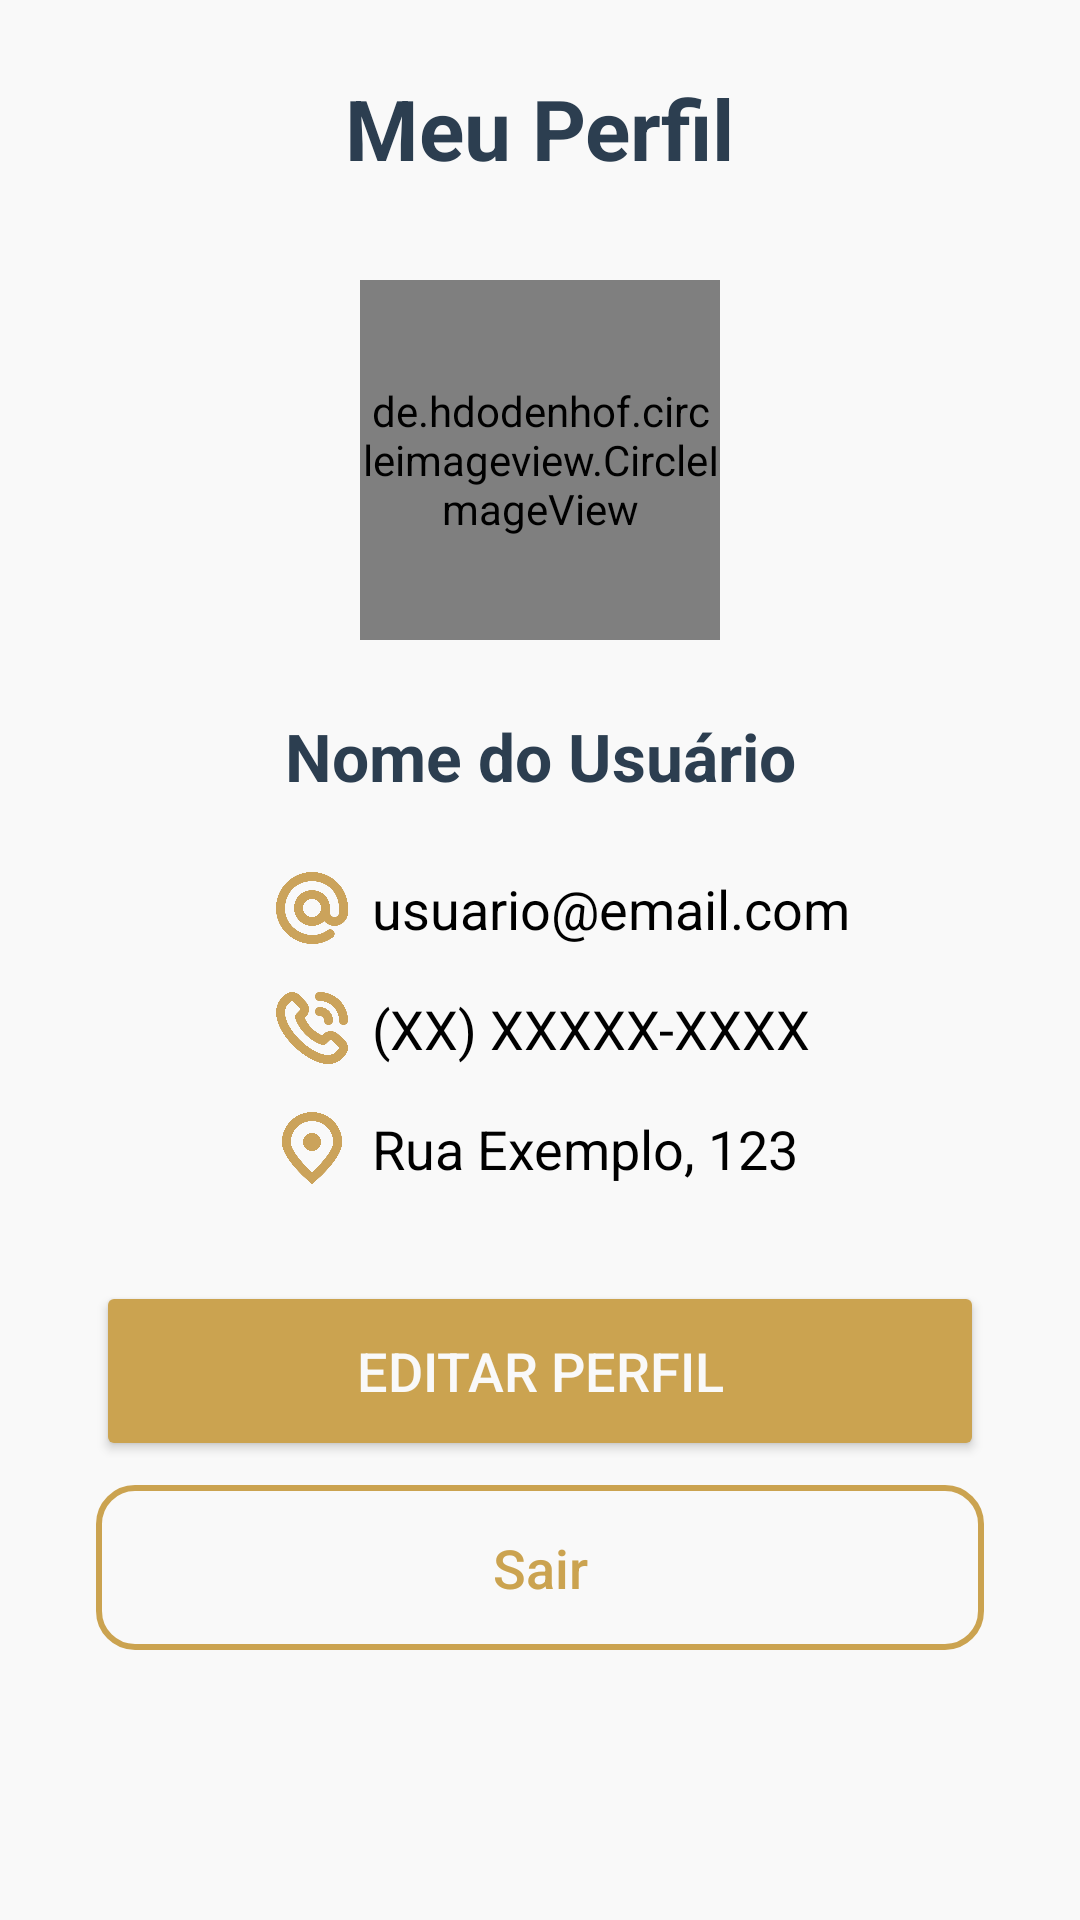

Locate icon controls on the screen. Image size 1080w x 1920h, boxes as (x1, y1, x2, y2).
endereco: (282, 1112, 342, 1184)
telefone: (276, 992, 348, 1064)
